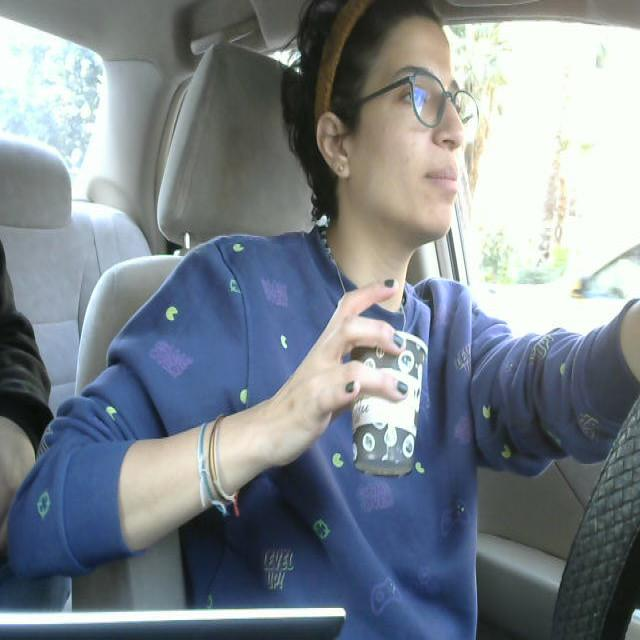drinking: (334, 307, 425, 486)
